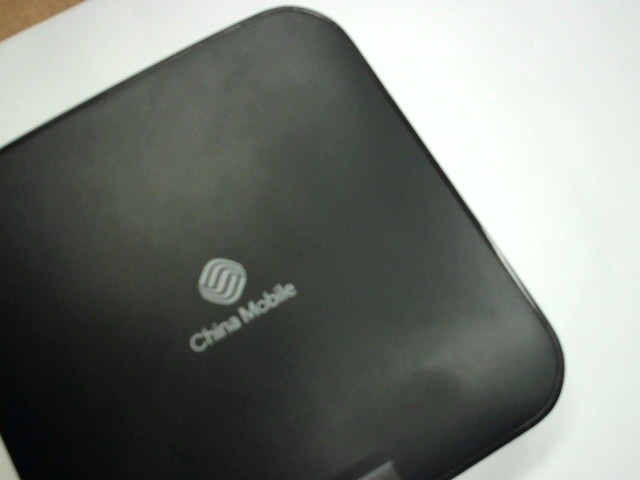AA_ChinaMobile: (166, 239, 312, 358)
